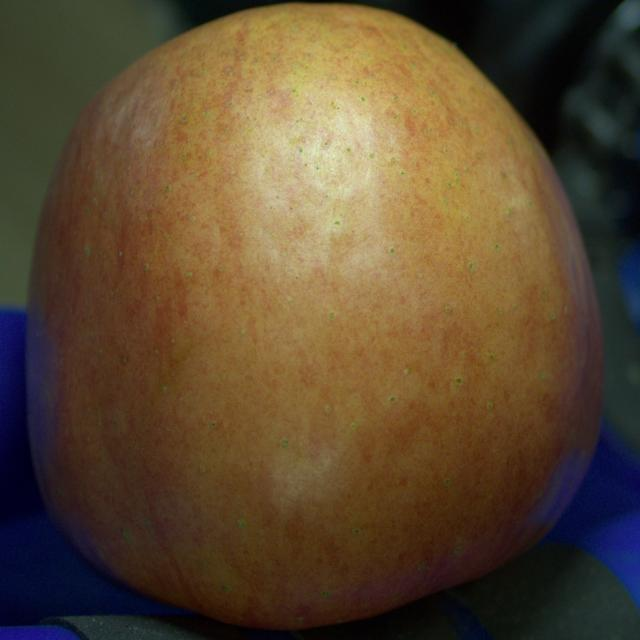apple: (25, 4, 602, 629)
